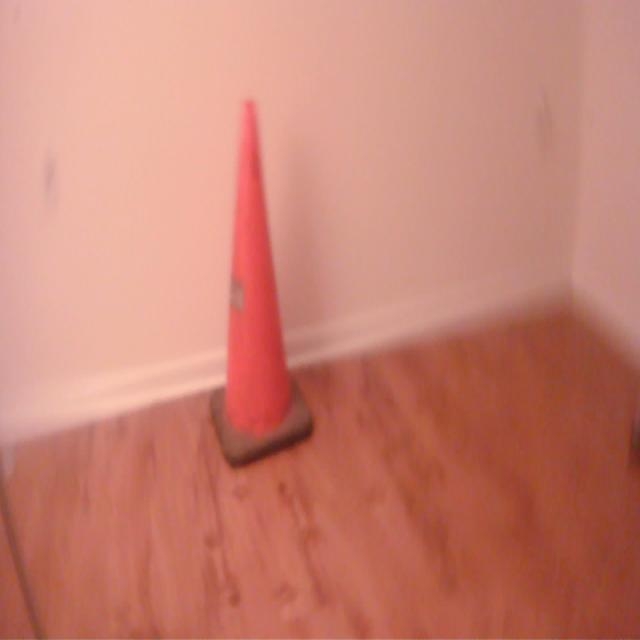traffic cone: (208, 93, 318, 470)
